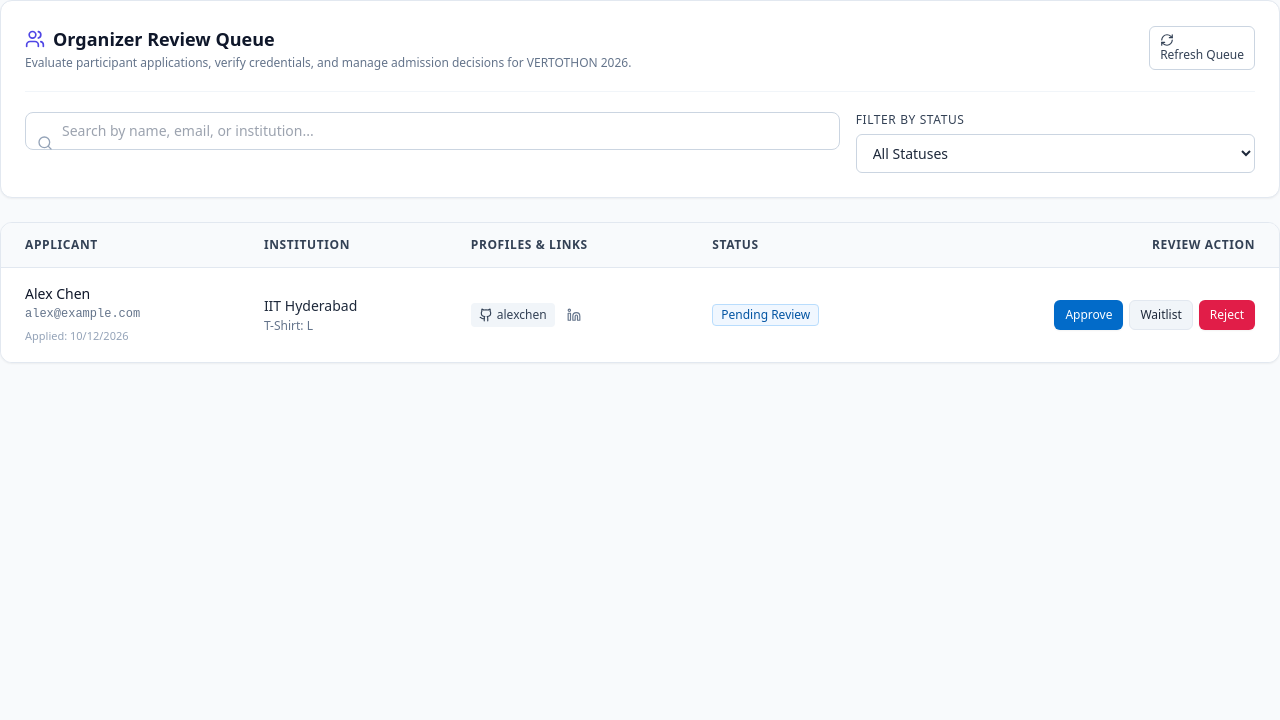
it: Phase 2 Task 3: Participant Onboarding and Organizer Review Workflows › OrganizerReviewQueue › opens confirmation modal and applies approval action on applicant
What coordinates should you click on to do the following:
click the button "Approve"
I would click on:
 (1089, 315)
Its box is x1=1054 y1=300 x2=1123 y2=330.
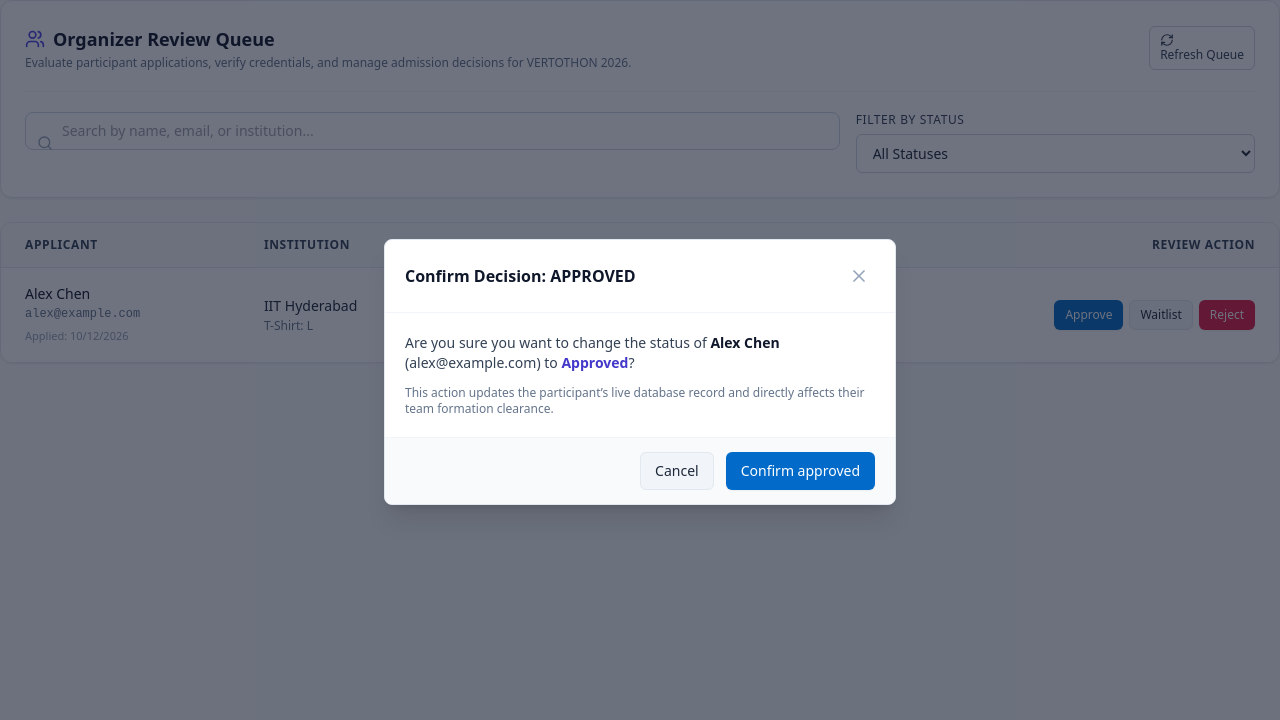
Expected: the heading "Confirm Decision: APPROVED" is shown, x1=405 y1=264 x2=636 y2=288
Expected: the text "Are you sure you want to change the status of" is shown, x1=405 y1=333 x2=707 y2=352
What coordinates should you click on to do the following:
click the button "Confirm approved"
I would click on:
 (800, 471)
Its box is x1=726 y1=452 x2=875 y2=490.
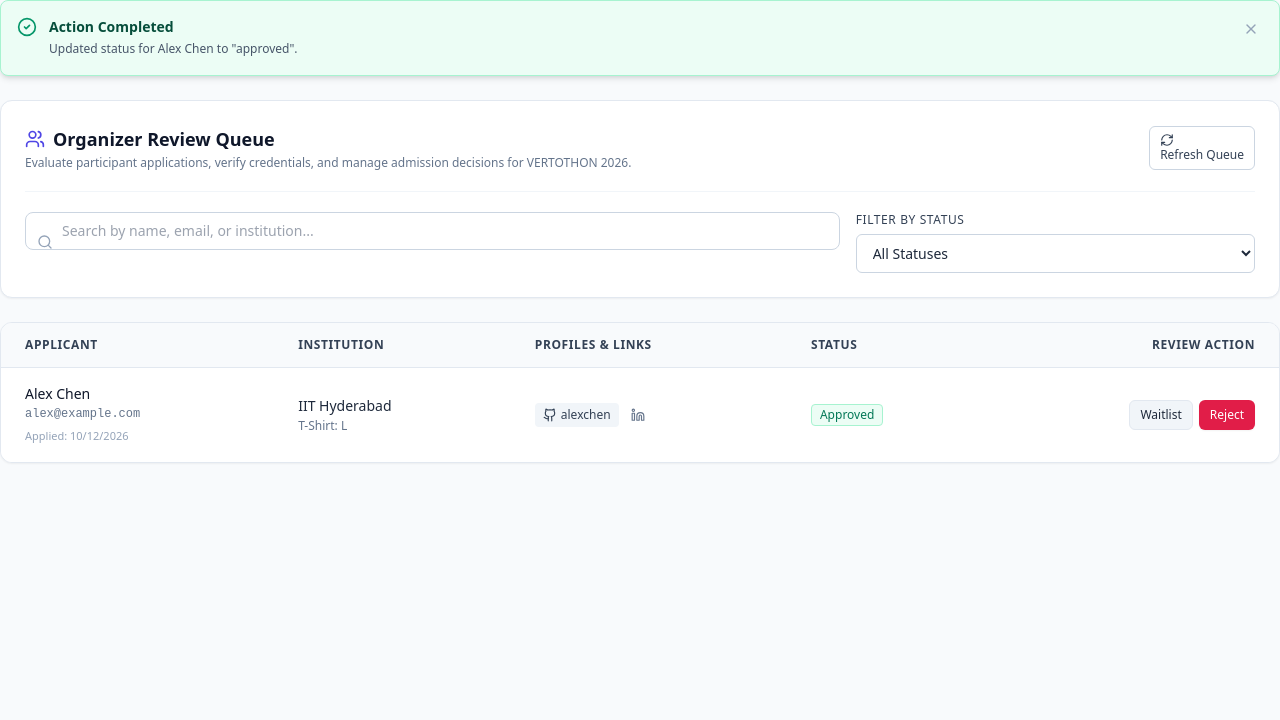
Expected: the text "Updated status for Alex Chen to \"approved\"." is shown, x1=49 y1=40 x2=298 y2=57
